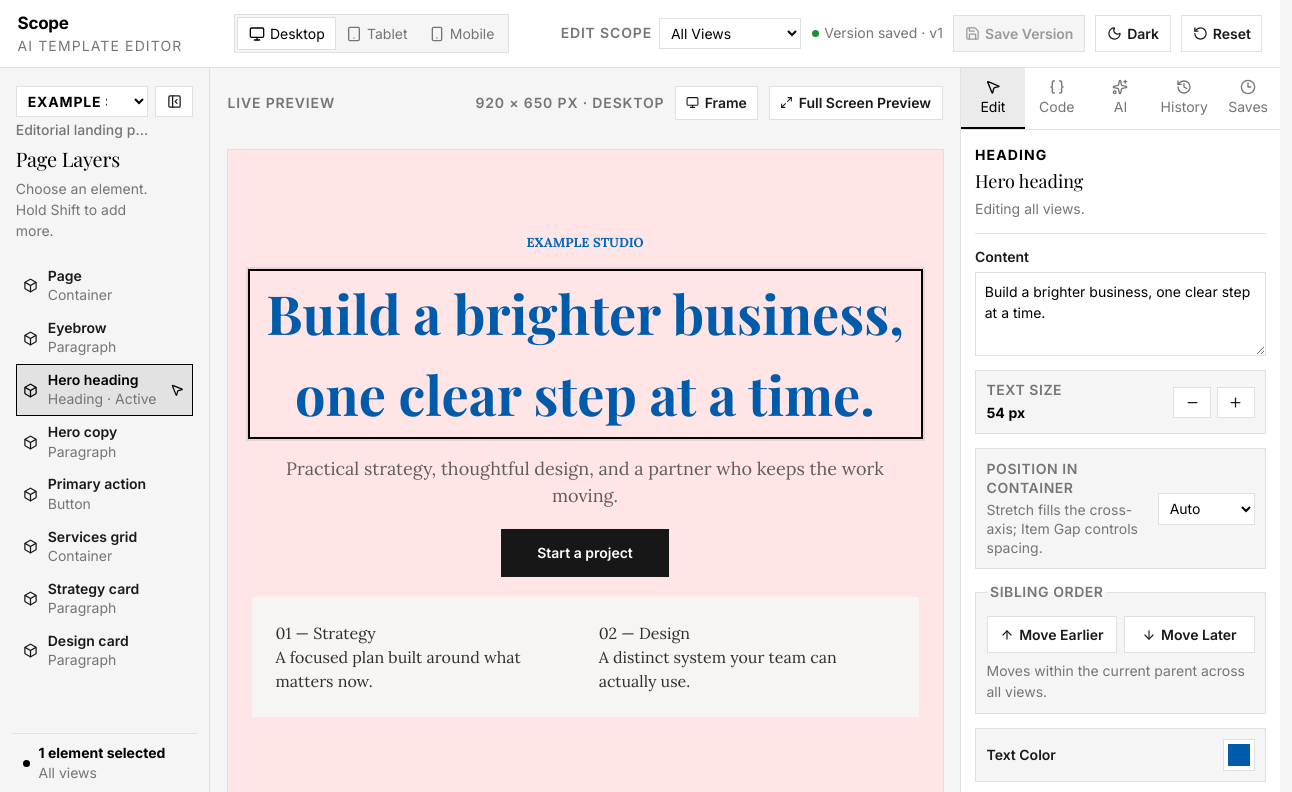
Test: edits bounded container spacing and records the revision
What coordinates should you click on to do the following:
click the option "Services grid container"
I would click on:
 (105, 547)
Its box is [16,521,193,573].
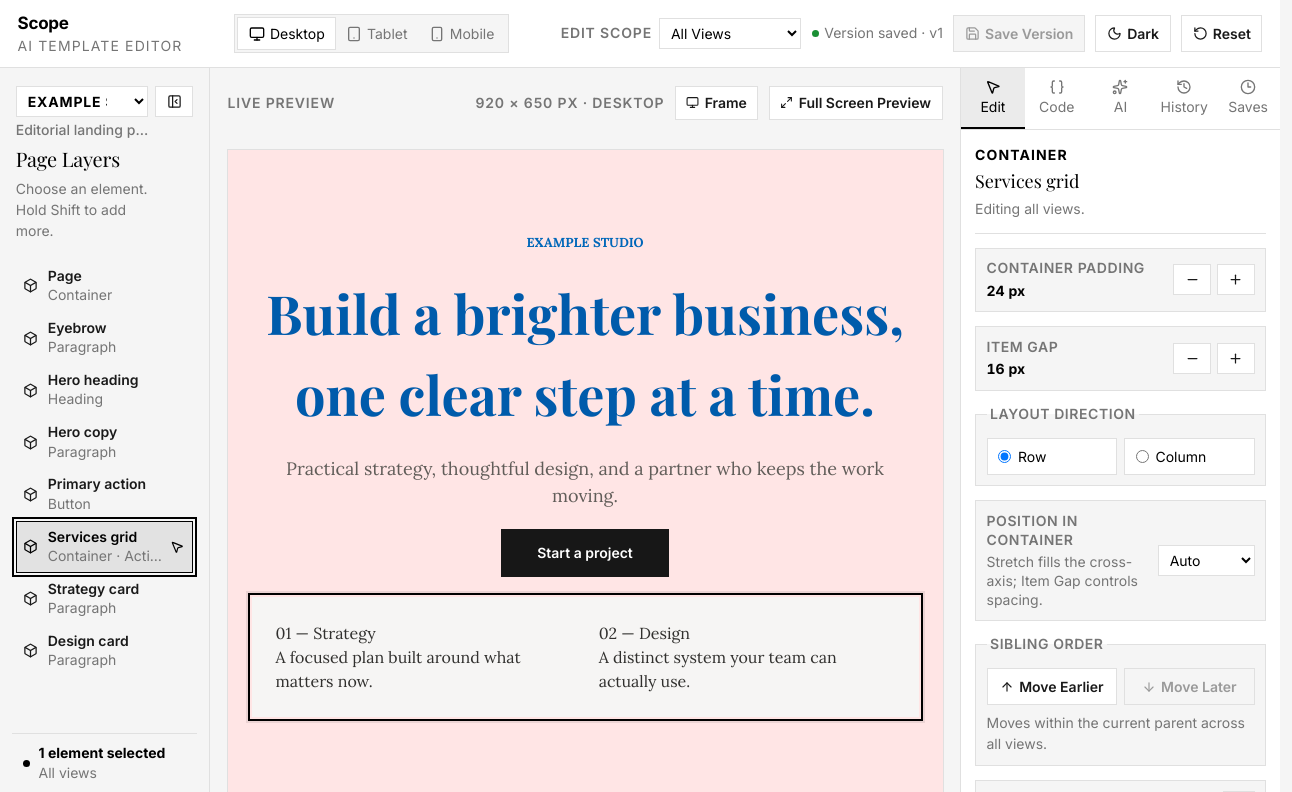
What coordinates should you click on to do the following:
click the button named "Increase container padding"
I would click on:
 (1236, 280)
Its box is [1216,264,1254,295].
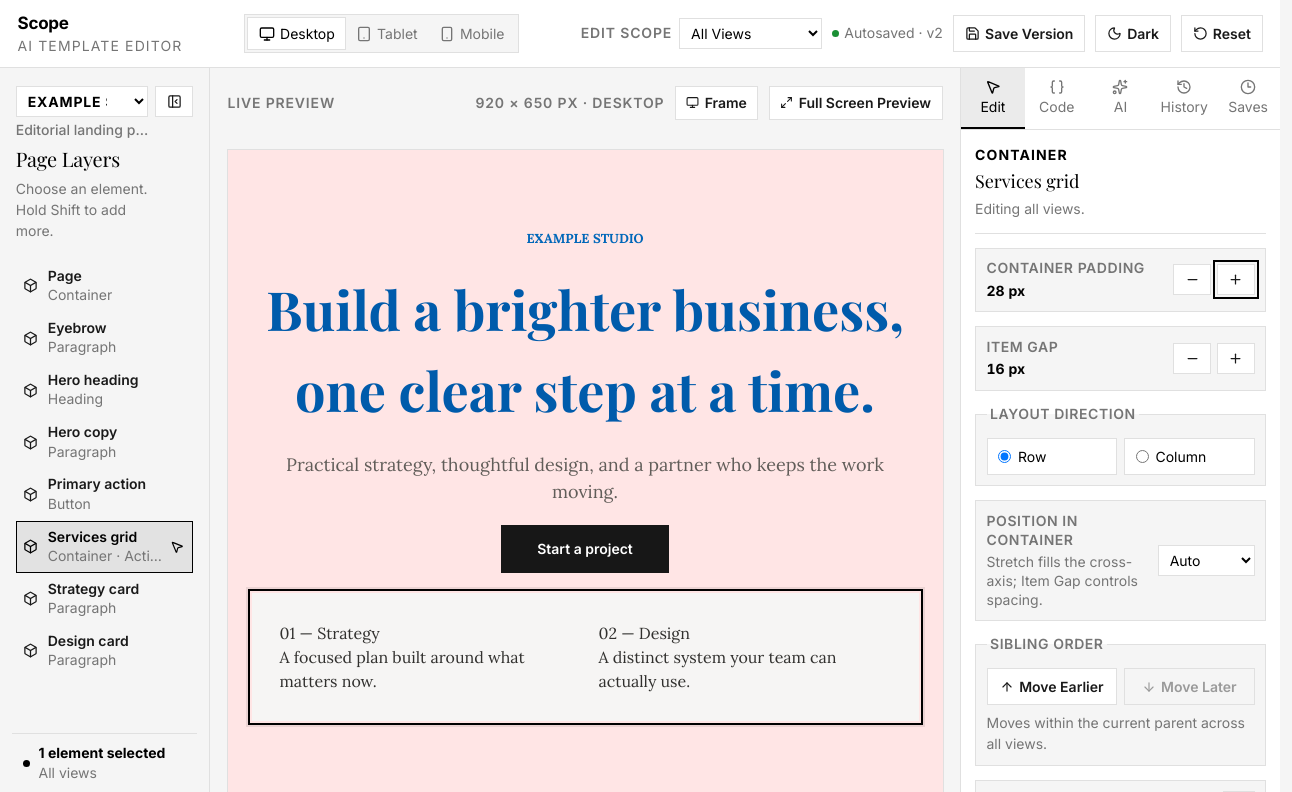
What coordinates should you click on to do the following:
click the button named "Increase item gap"
I would click on:
 (1236, 358)
Its box is [1216,343,1254,374].
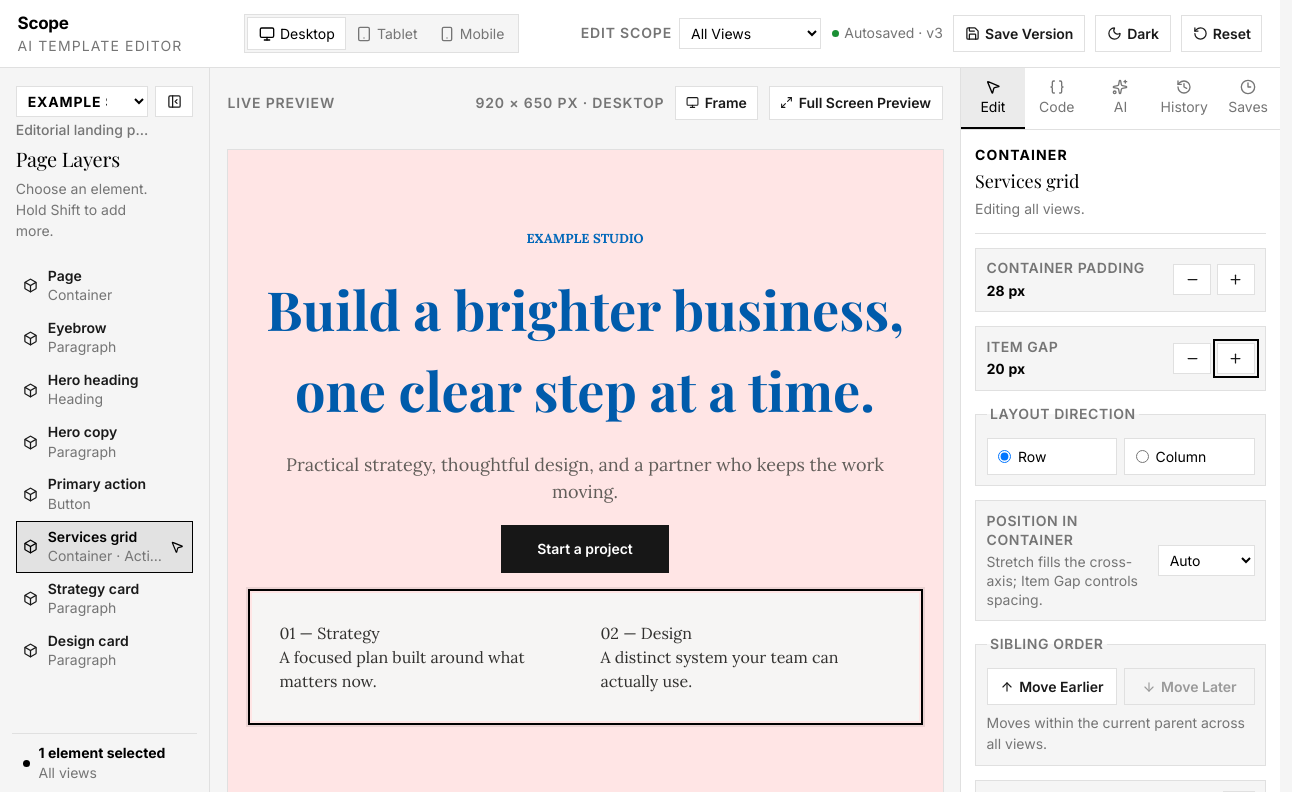
Expected: the text "Autosaved · v3" is shown, [832,24,943,43]
